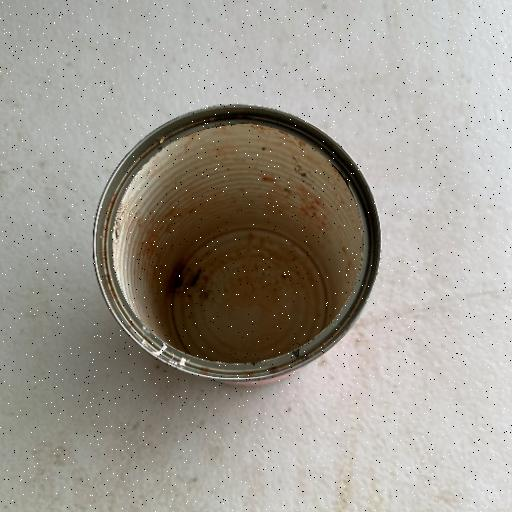Metal: (90, 101, 384, 387)
